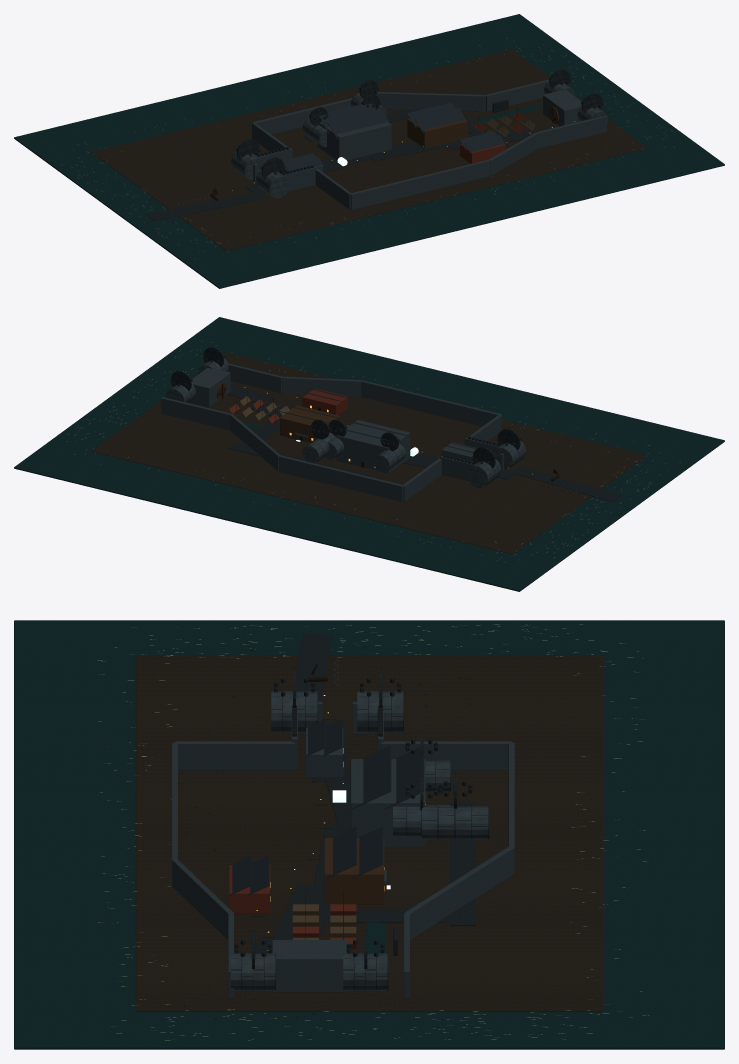
File: greyfen_diorama.glb
3 views of the same model, one above another, from view 1: azimuth 30°, elevation 25°; view 2: azimuth 150°, elevation 25°; view 3: azimuth 270°, elevation 25° (orthographic). The views are drawn at different scales.
Visible parts, largest first — view 1: FenWater, GreyfenGround, SouthCurtainA, GreatKeep_walls, NorthCurtainB, EastFenWallSouth, Granary_walls, NorthCurtainA, Causeway_00, WaterGateHouse, EastFenWallNorth, SouthCurtainB (+10 smaller); view 2: FenWater, GreyfenGround, SouthCurtainA, NorthCurtainA, GreatKeep_walls, SouthCurtainB, EastFenWallNorth, Granary_walls, WaterGateHouse, Causeway_00, EastFenWallSouth, NorthCurtainB (+8 smaller); view 3: FenWater, GreyfenGround, WaterGateHouse, WestReturnSouth, NorthCurtainB, GreatKeep_walls, WestReturnNorth, Granary_walls, SignalTower_mass, SouthCurtainB, WestTowerNorth_mass, WaterTowerA_mass (+17 smaller).
Part boxes in pixels (x1=…): FenWater: x1=14, y1=14, x2=724, y2=288; GreyfenGround: x1=91, y1=49, x2=647, y2=251; SouthCurtainA: x1=350, y1=159, x2=490, y2=209; GreatKeep_walls: x1=317, y1=122, x2=391, y2=160; NorthCurtainB: x1=377, y1=92, x2=485, y2=111; EastFenWallSouth: x1=536, y1=116, x2=606, y2=148; Granary_walls: x1=407, y1=118, x2=467, y2=148; NorthCurtainA: x1=252, y1=93, x2=377, y2=134; Causeway_00: x1=146, y1=193, x2=267, y2=221; WaterGateHouse: x1=543, y1=90, x2=581, y2=126; EastFenWallNorth: x1=486, y1=79, x2=548, y2=111; SouthCurtainB: x1=488, y1=132, x2=537, y2=175; FenWater: x1=14, y1=317, x2=724, y2=591; GreyfenGround: x1=91, y1=352, x2=647, y2=554; SouthCurtainA: x1=361, y1=380, x2=501, y2=426; NorthCurtainA: x1=279, y1=455, x2=403, y2=501; GreatKeep_walls: x1=336, y1=420, x2=410, y2=473; SouthCurtainB: x1=282, y1=376, x2=362, y2=396; EastFenWallNorth: x1=161, y1=397, x2=231, y2=430; Granary_walls: x1=280, y1=405, x2=340, y2=442; WaterGateHouse: x1=189, y1=367, x2=230, y2=407; Causeway_00: x1=513, y1=466, x2=622, y2=502; EastFenWallSouth: x1=228, y1=363, x2=282, y2=392; NorthCurtainB: x1=230, y1=414, x2=280, y2=471; FenWater: x1=14, y1=620, x2=724, y2=1049; GreyfenGround: x1=135, y1=655, x2=603, y2=1011; WaterGateHouse: x1=272, y1=940, x2=346, y2=992; WestReturnSouth: x1=175, y1=741, x2=294, y2=770; NorthCurtainB: x1=404, y1=846, x2=513, y2=939; GreatKeep_walls: x1=350, y1=759, x2=425, y2=846; WestReturnNorth: x1=380, y1=741, x2=511, y2=770; Granary_walls: x1=324, y1=838, x2=384, y2=904; SignalTower_mass: x1=422, y1=806, x2=489, y2=839; SouthCurtainB: x1=172, y1=859, x2=233, y2=939; WestTowerNorth_mass: x1=357, y1=691, x2=403, y2=732; WaterTowerA_mass: x1=343, y1=953, x2=388, y2=990.
Size of what is drawn, in the model's own units: 270 by 24.3 by 190.
Materials: 14 (10 with a texture image).
